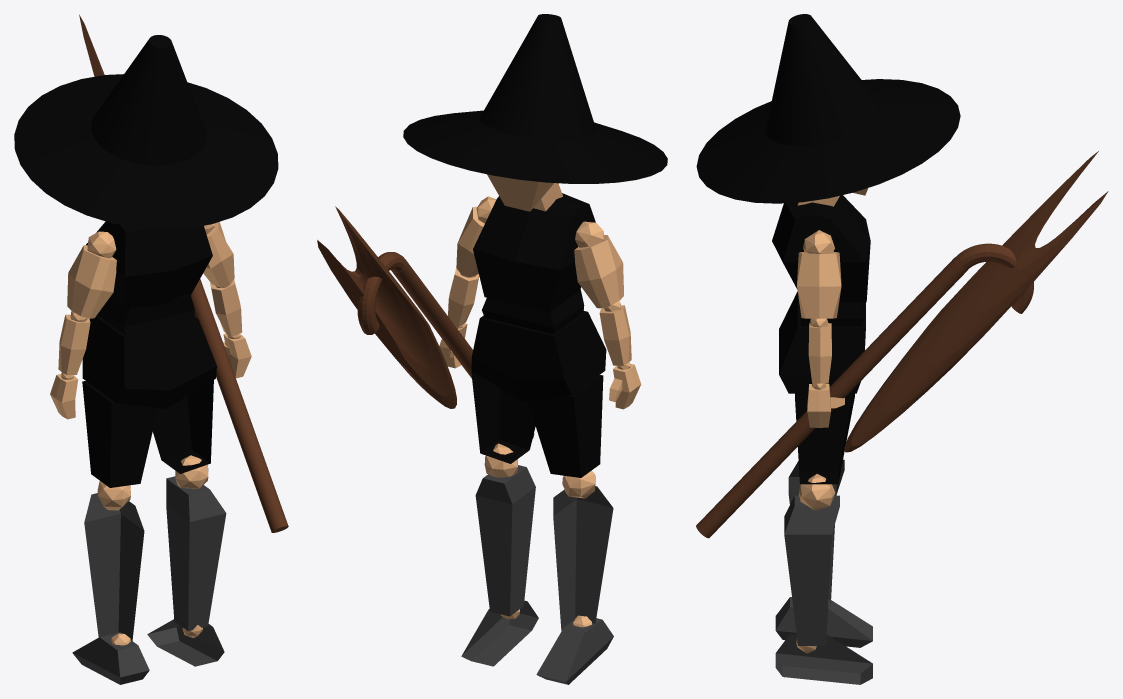
File: BongoMongo.fbx
3 renders of one model, left to right at view 1: azimuth 30°, elevation 25°; view 2: azimuth 150°, elevation 25°; view 3: azimuth 270°, elevation 25°, orthographic.
Parts seen in each view (by area): view 1: Cylinder, Torso.006, Cube.093, Cube.097, Cube.095, BeinRe.006, Cylinder.001, BeinLi.006, Cube.103, Cube.096, Cube.094, Cube.098 (+9 smaller); view 2: Cylinder, Cube.093, Torso.006, Torus.001, Cube.097, Cube.095, BeinRe.006, BeinLi.006, Cube.096, Cube.103, Cube.098, Cube.094 (+10 smaller); view 3: Cylinder, Torus.001, Cylinder.001, Cube.097, Cube.093, Torso.006, Cube.098, BeinLi.006, Cube.099, Cube.096, Torus, Cube.100 (+4 smaller).
Boxes of the visible parts, x1,y1,x2,y2 form: Cylinder: (14, 35, 278, 229); Torso.006: (82, 315, 216, 408); Cube.093: (86, 221, 212, 311); Cube.097: (166, 476, 226, 631); Cube.095: (84, 493, 144, 640); BeinRe.006: (82, 381, 157, 487); Cylinder.001: (191, 279, 288, 532); BeinLi.006: (152, 380, 213, 473); Cube.103: (67, 245, 116, 318); Cube.096: (72, 632, 149, 684); Cube.094: (97, 294, 194, 335); Cube.098: (147, 619, 224, 666); Cylinder: (403, 14, 667, 183); Cube.093: (473, 193, 595, 312); Torso.006: (471, 311, 606, 401); Torus.001: (317, 206, 456, 408); Cube.097: (475, 465, 535, 616); Cube.095: (553, 486, 613, 635); BeinRe.006: (528, 375, 603, 477); BeinLi.006: (471, 371, 535, 463); Cube.096: (536, 618, 613, 684); Cube.103: (574, 235, 623, 308); Cube.098: (461, 600, 538, 666); Cube.094: (482, 289, 584, 334); Cylinder: (696, 14, 960, 203); Torus.001: (844, 151, 1108, 452); Cylinder.001: (696, 257, 967, 538); Cube.097: (784, 495, 839, 645); Cube.093: (772, 195, 870, 302); Torso.006: (779, 291, 865, 393); Cube.098: (775, 634, 872, 684); BeinLi.006: (795, 393, 854, 484); Cube.099: (797, 252, 841, 318); Cube.096: (775, 597, 872, 647); Torus: (954, 243, 1033, 313); Cube.100: (808, 323, 831, 383).
Size of the model in its own units: 1.15 by 3.03 by 1.76.
